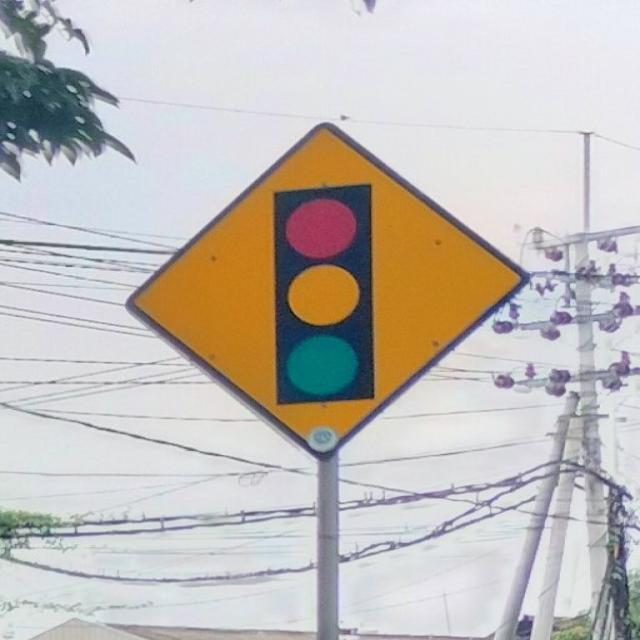Lampu Lalu Lintas: (124, 112, 530, 470)
